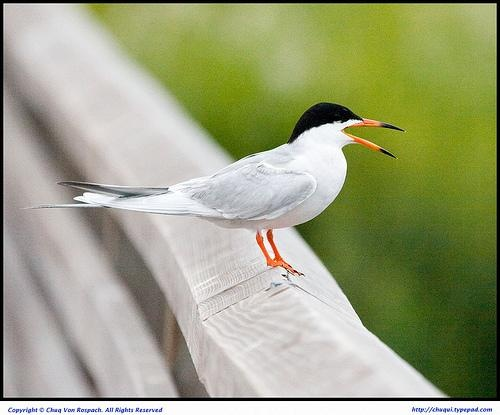bird: (17, 102, 406, 277)
